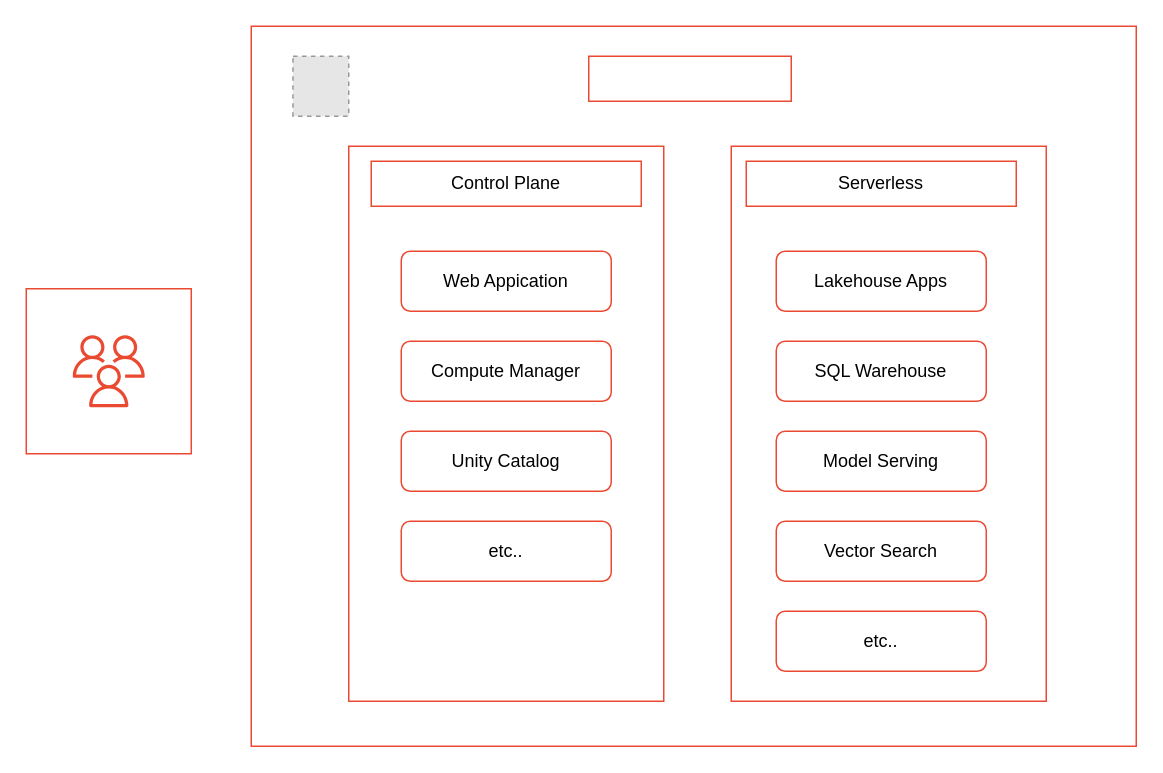
This 1163x773 diagram has some shape labels left out. Grey dashed boxes stand in for pictures. The centre of each missing label's shape, as x and y in pixels:
"Users" belongs at point (108, 370).
"Your Databricks Account" belongs at point (689, 78).
